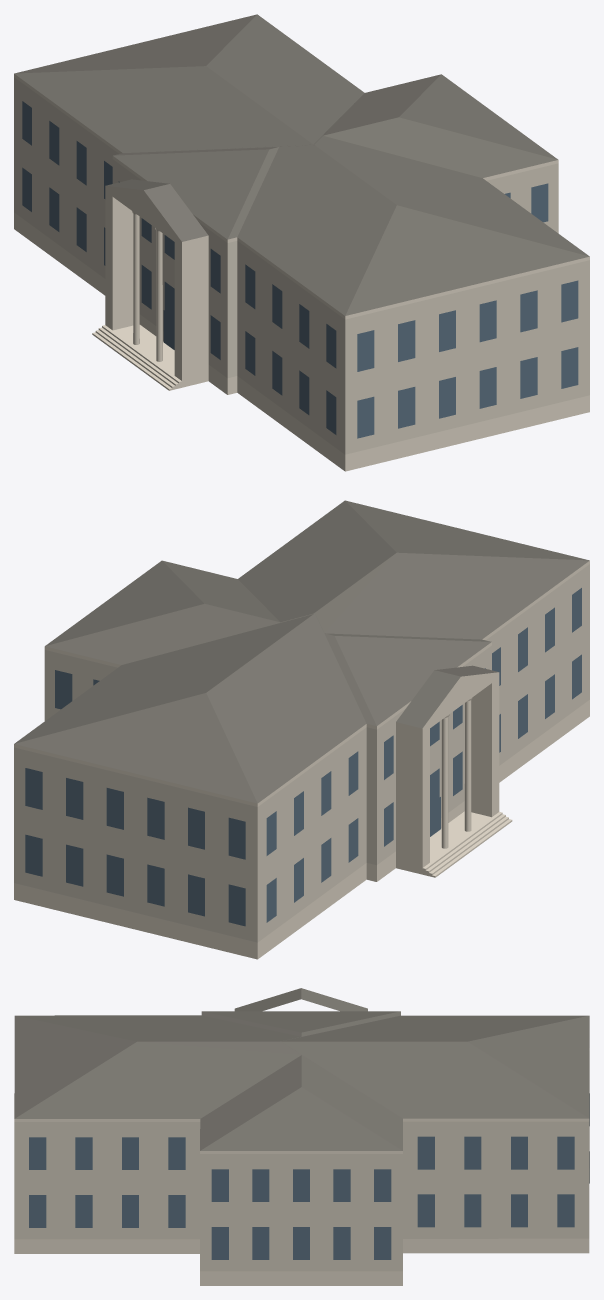
File: dc-au-hurst-hall.glb
3 renders of one model, top to bottom at view 1: azimuth 30°, elevation 25°; view 2: azimuth 150°, elevation 25°; view 3: azimuth 270°, elevation 25°, orthographic. The views are drawn at different scales.
Parts seen in each view (by area): view 1: Hurst Hall; view 2: Hurst Hall; view 3: Hurst Hall.
Boxes of the visible parts, bbox=[...] form: Hurst Hall: bbox=[14, 14, 589, 471]; Hurst Hall: bbox=[14, 500, 589, 959]; Hurst Hall: bbox=[14, 988, 589, 1285].
Size of the model in its own units: 35.59 by 17.01 by 55.33.
